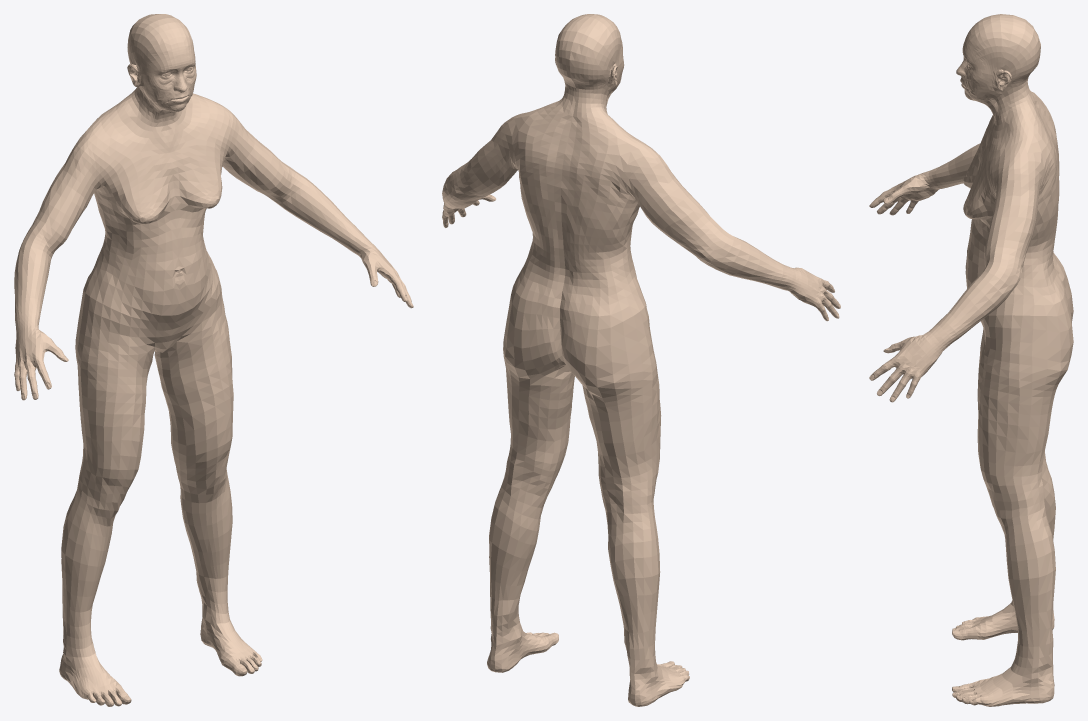
Rendered from female-elder-max-strong.glb.
3 views of the same model, side by side, from view 1: azimuth 30°, elevation 25°; view 2: azimuth 150°, elevation 25°; view 3: azimuth 270°, elevation 25° (orthographic).
Parts seen in each view (by area): view 1: world; view 2: world; view 3: world.
Boxes of the visible parts, <box> form: world: <box>14,14,413,706</box>; world: <box>442,14,840,706</box>; world: <box>869,14,1073,706</box>.
Size of the model in its own units: 1.16 by 1.86 by 0.5295.
